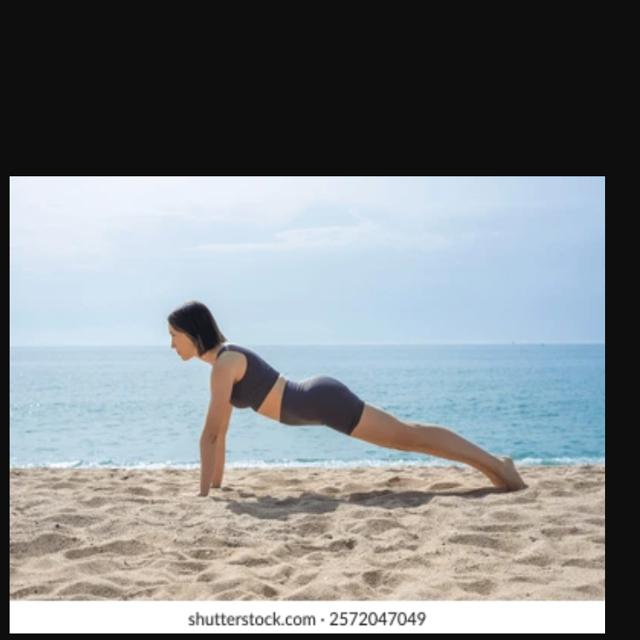Plank_Pose: (167, 293, 536, 509)
